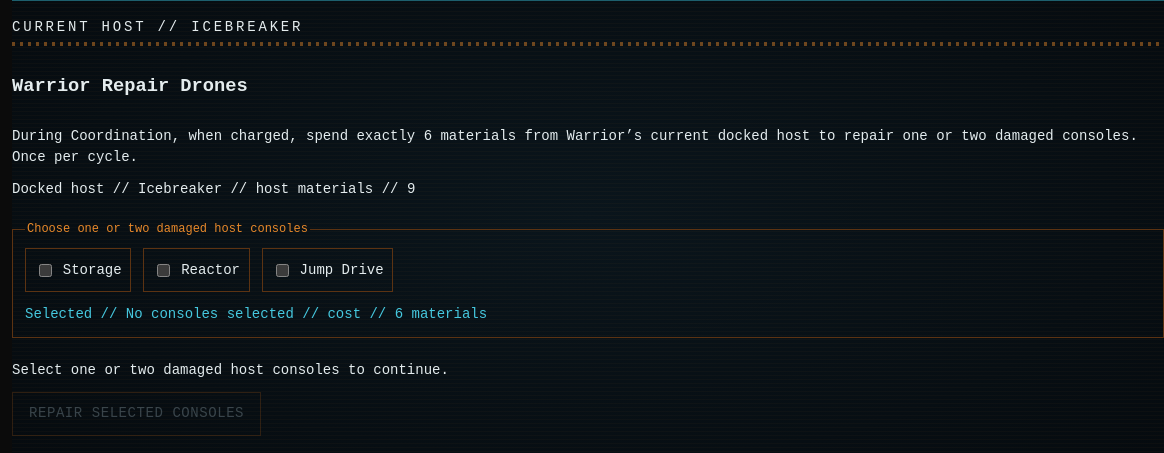
keeps a current-cycle charge usable after Team maintenance closes
The width and height of the screenshot is (1164, 453).
Click the checkbox labelled "Storage" at [45, 270], box [39, 264, 52, 276]
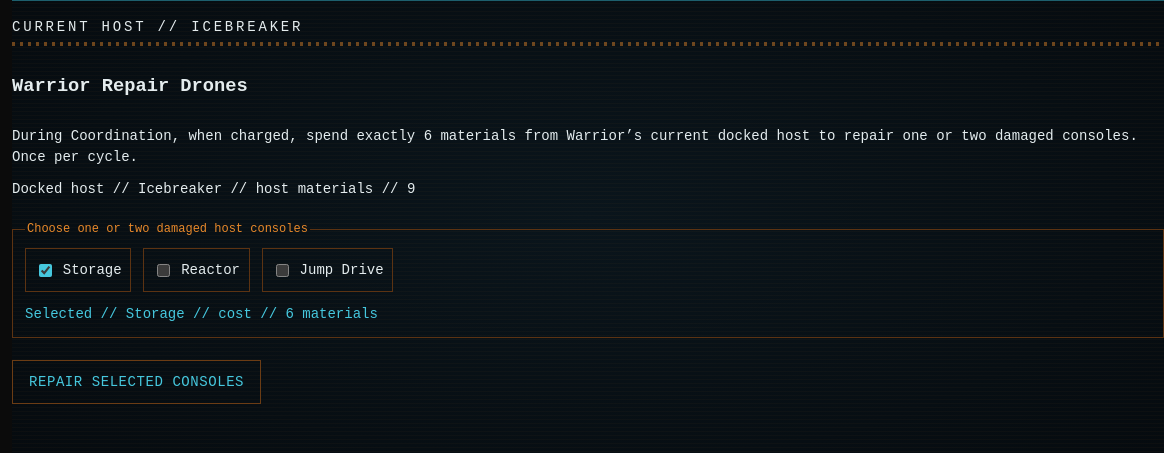
expect the button "Repair selected consoles" is enabled: met, box [12, 360, 261, 404]
